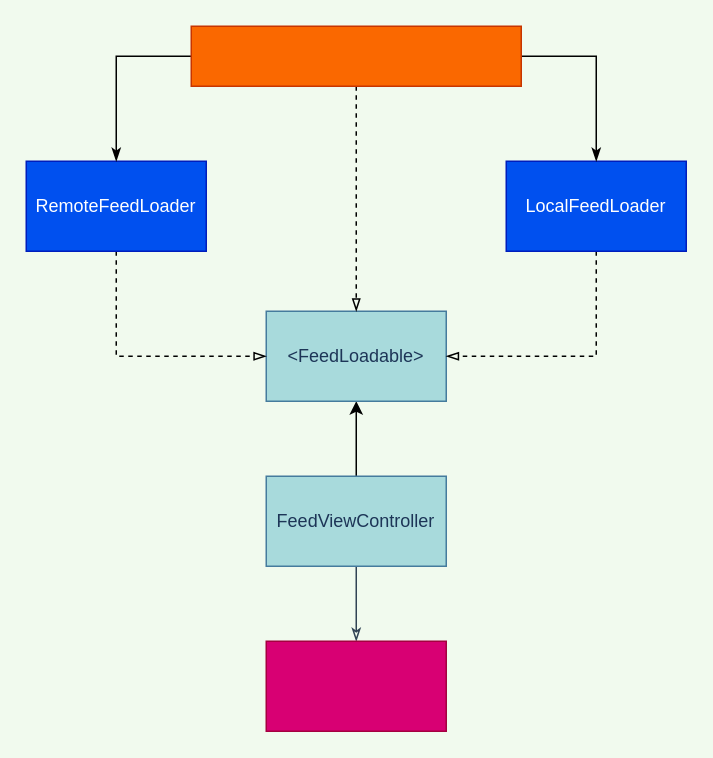
Some shapes in this 713 by 758 pixel diagram are drawn without their labels. The shapes that lost their labels are listed below. From the top down, each one's box as (x1, y1, x2, y2) in pixels, then its label:
(190, 25, 521, 86): RemoteWithLocalFallbackFeedLoader
(265, 640, 446, 731): UIViewController
